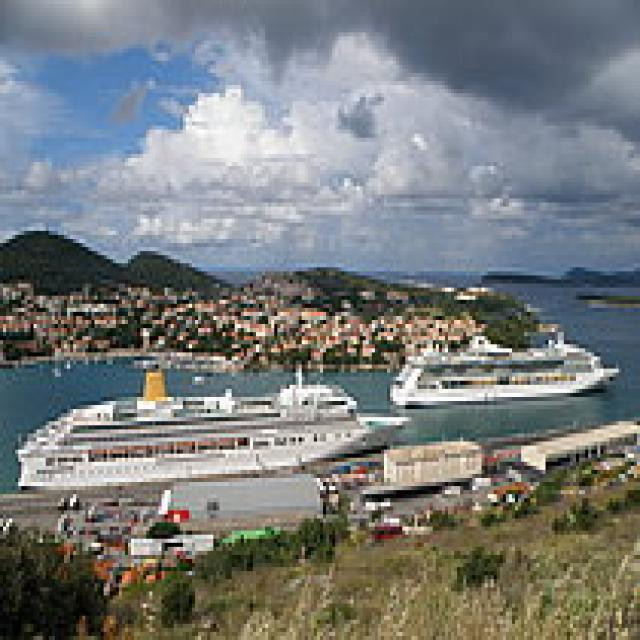Ship: (10, 350, 425, 504), (379, 305, 632, 423)
